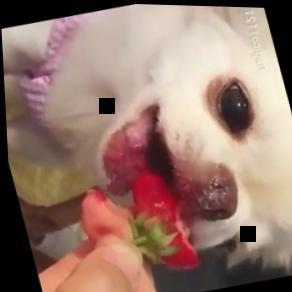nasal_discharge: (190, 171, 238, 214)
